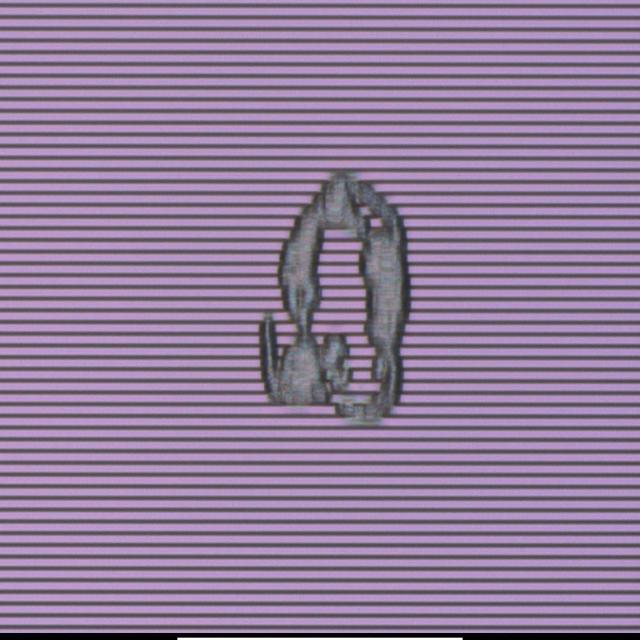03_intrusion: (263, 165, 420, 430)
